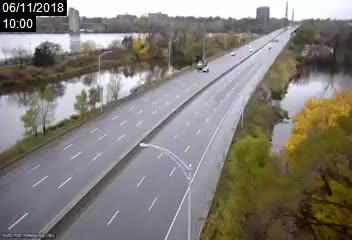personal_car: (201, 64, 210, 73)
truck: (195, 58, 208, 69)
